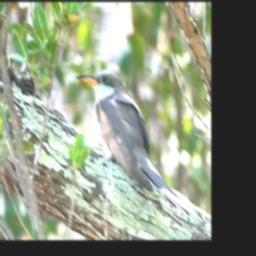Cuckoo: (77, 70, 182, 201)
